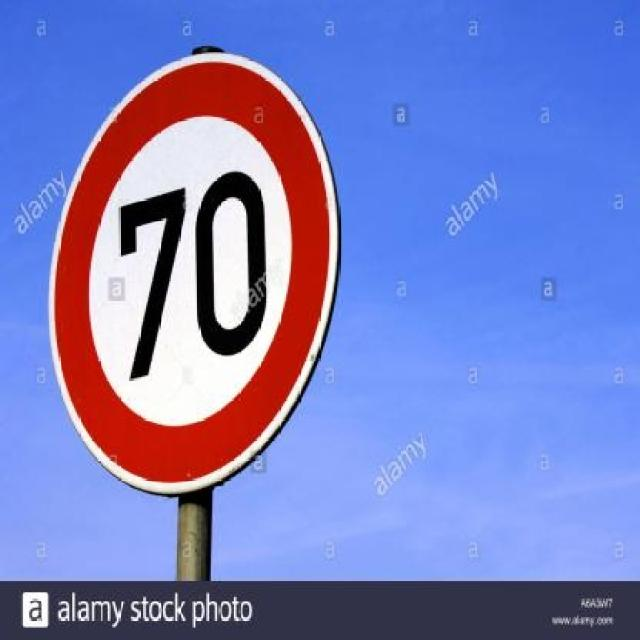forb_speed_over_70: (64, 95, 322, 461)
